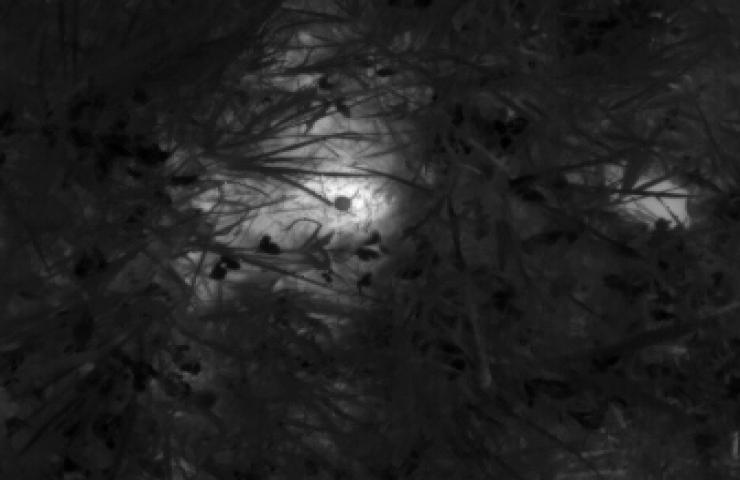landmines: (160, 18, 447, 322)
